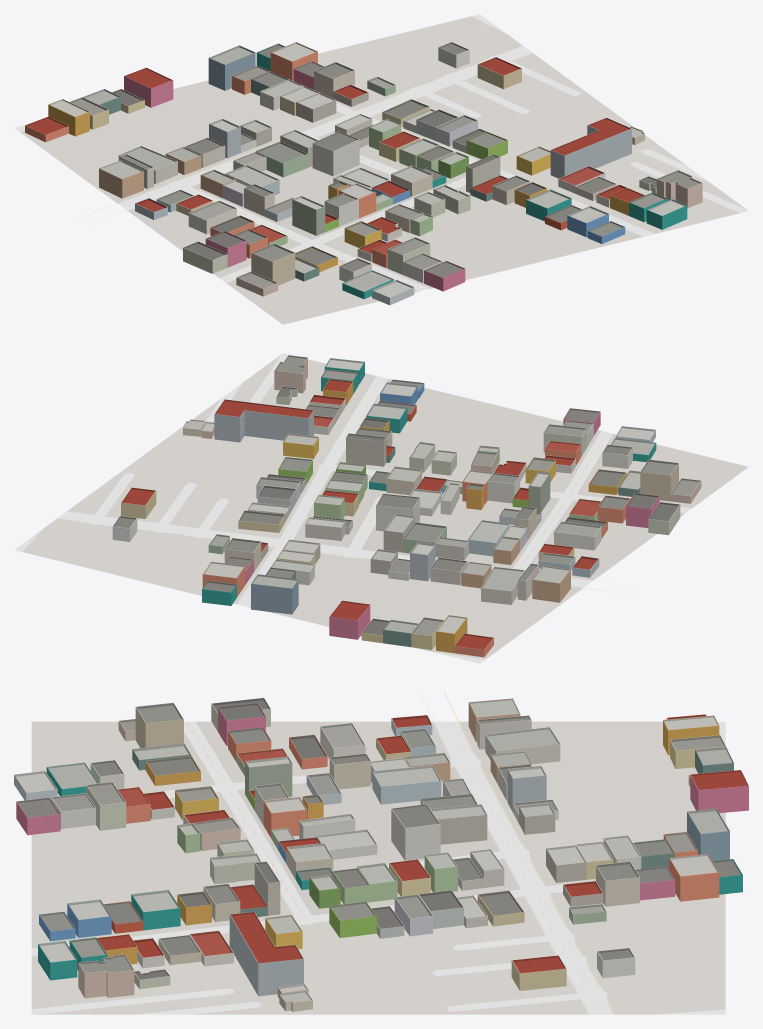
The picture shows the model from 3 angles, top to bottom: view 1: azimuth 30°, elevation 25°; view 2: azimuth 150°, elevation 25°; view 3: azimuth 270°, elevation 25°; orthographic projection. The views are drawn at different scales.
Parts seen in each view (by area): view 1: ground, walls, roofs, asphalt; view 2: ground, walls, roofs, asphalt; view 3: ground, walls, roofs, asphalt, markings.
Part boxes in pixels (x1,y1,x2,y2): ground: (20,16,746,324); walls: (25,47,702,305); roofs: (25,42,701,297); asphalt: (14,14,748,291); ground: (22,354,748,659); walls: (112,358,701,657); roofs: (112,355,700,649); asphalt: (14,353,691,663); ground: (31,721,725,1014); walls: (14,702,748,1011); roofs: (14,697,748,1002); asphalt: (31,721,725,1014); markings: (143,692,612,1013).
Size of what is drawn, in the model's own units: 275 by 13.39 by 265.
